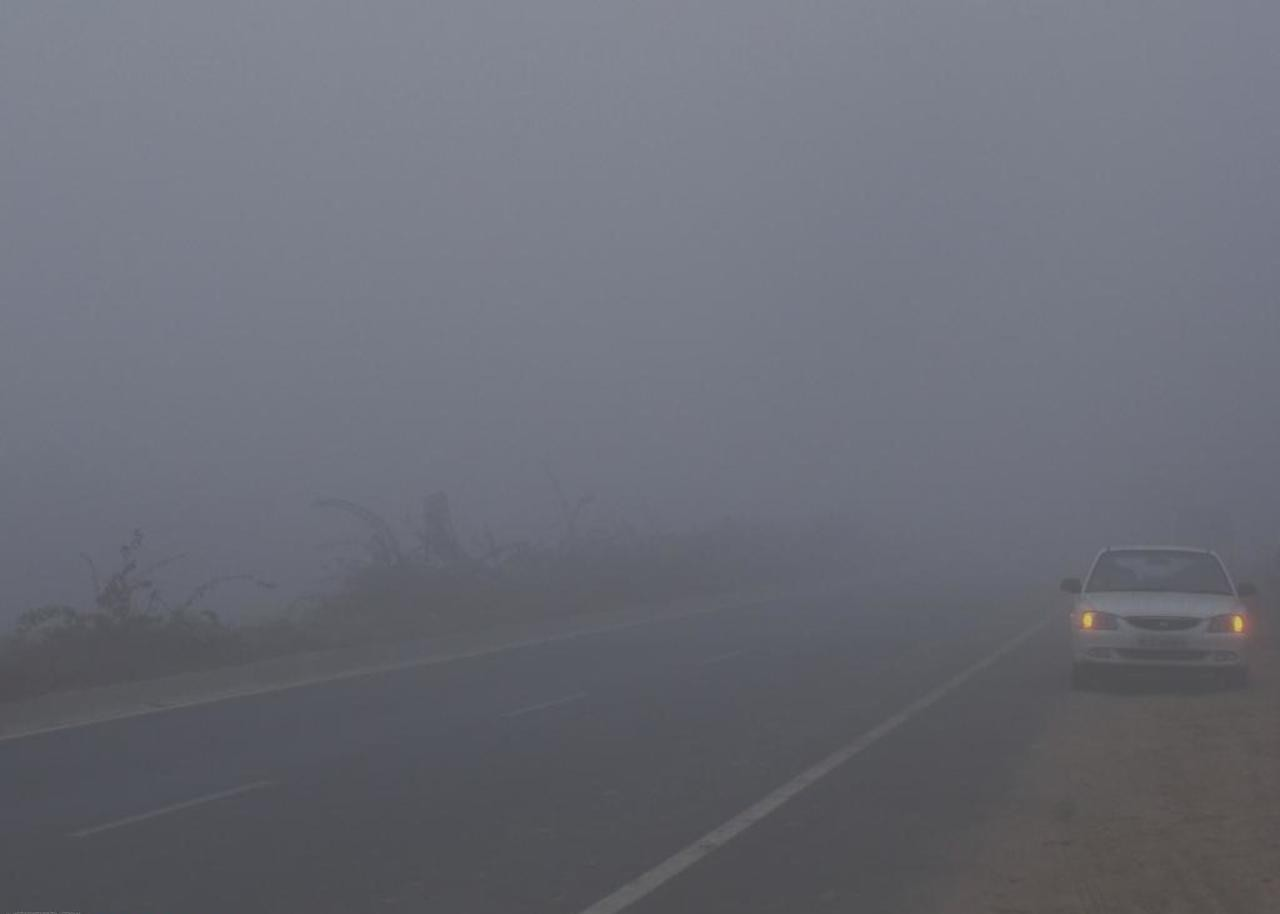car: (1061, 546, 1254, 692)
